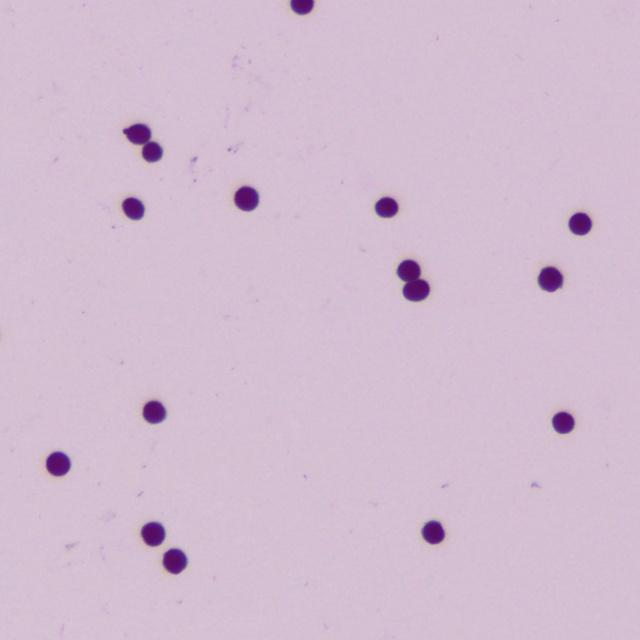viable: (538, 266, 562, 291), (234, 186, 258, 211), (141, 522, 165, 546), (46, 451, 70, 475), (164, 548, 187, 573), (123, 123, 150, 144), (403, 279, 429, 300), (143, 400, 166, 423), (397, 259, 420, 281), (552, 411, 574, 433), (569, 213, 591, 235), (422, 521, 444, 543), (122, 197, 143, 219), (375, 197, 397, 217), (142, 141, 162, 161), (291, 0, 313, 14)
